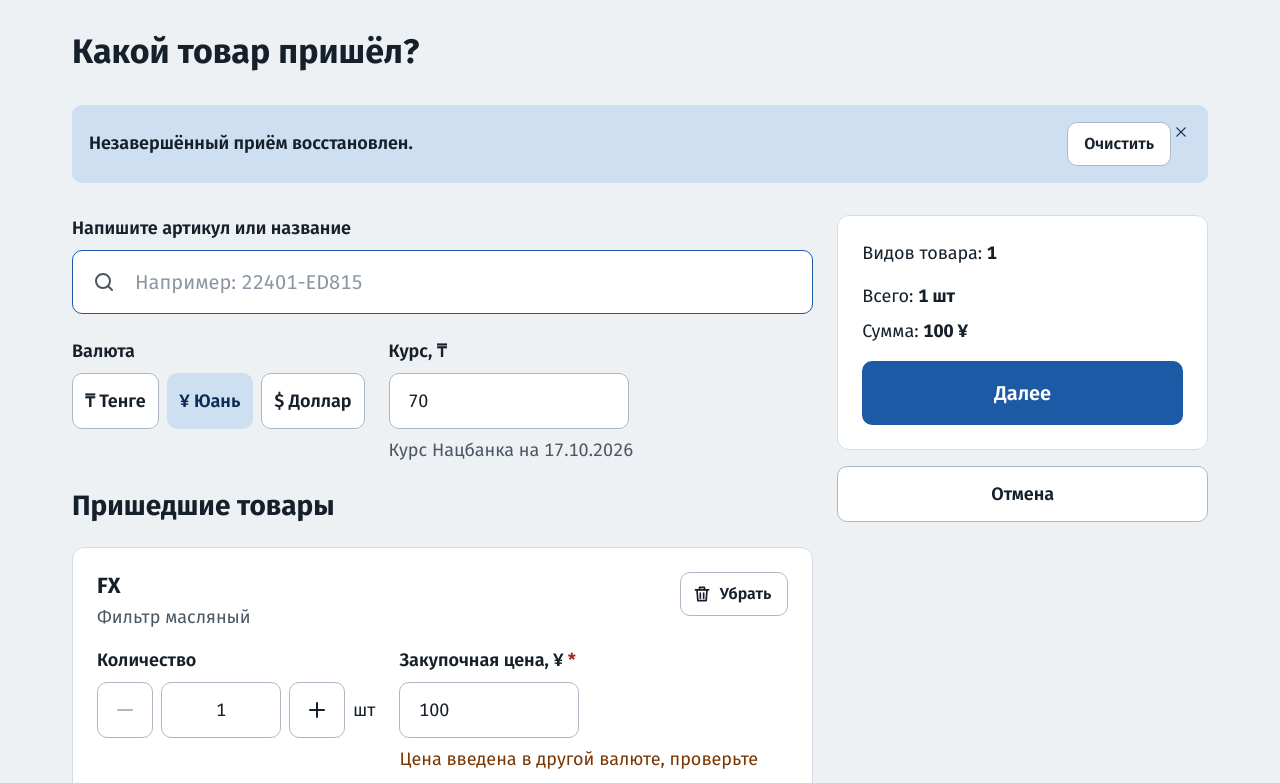
it: preview nbk mismatch refreshes the rate and leaves a notice and the original lines
Expected: the field named "Количество FX" is shown, top-left (161, 682), bottom-right (281, 738)
Click the button "Далее". click: (1023, 393)
box: top-left (862, 361), bottom-right (1183, 425)
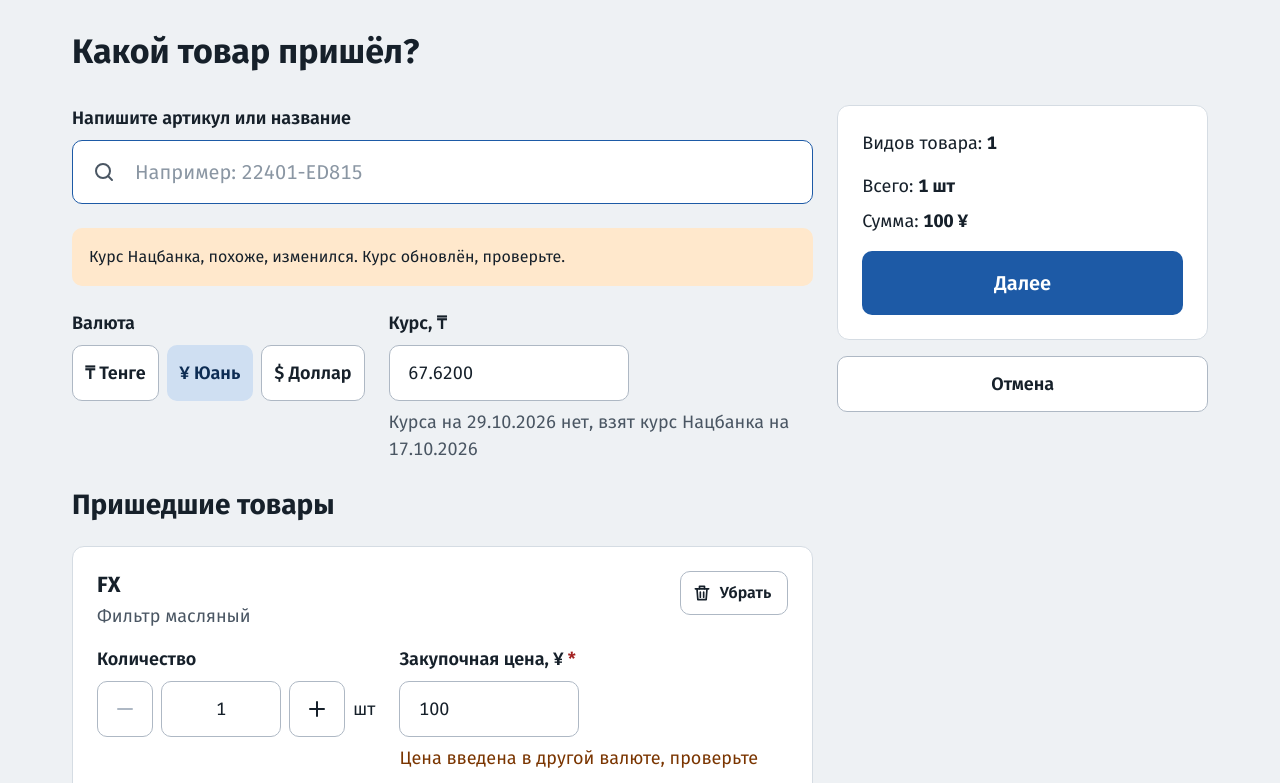
Expected: the field labelled "Курс, ₸" holds "67.6200", top-left (389, 345), bottom-right (629, 401)
Expected: the text "Курс Нацбанка, похоже, изменился. Курс обновлён, проверьте." is shown, top-left (89, 247), bottom-right (565, 266)
Expected: the field named "Закупочная цена FX" holds "100", top-left (400, 681), bottom-right (580, 737)
